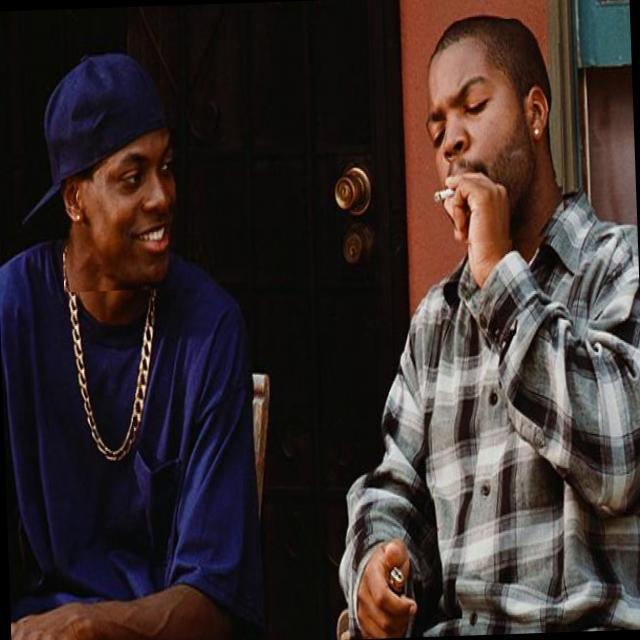cigarette: (425, 176, 462, 206)
